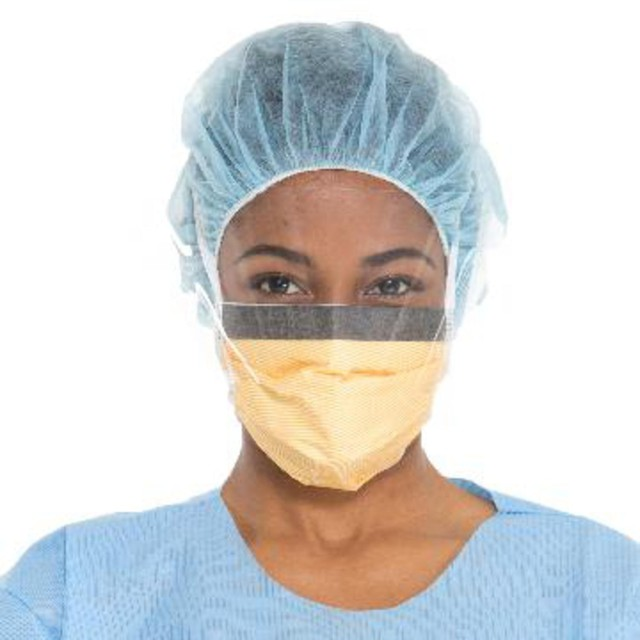mask: (211, 302, 473, 514)
